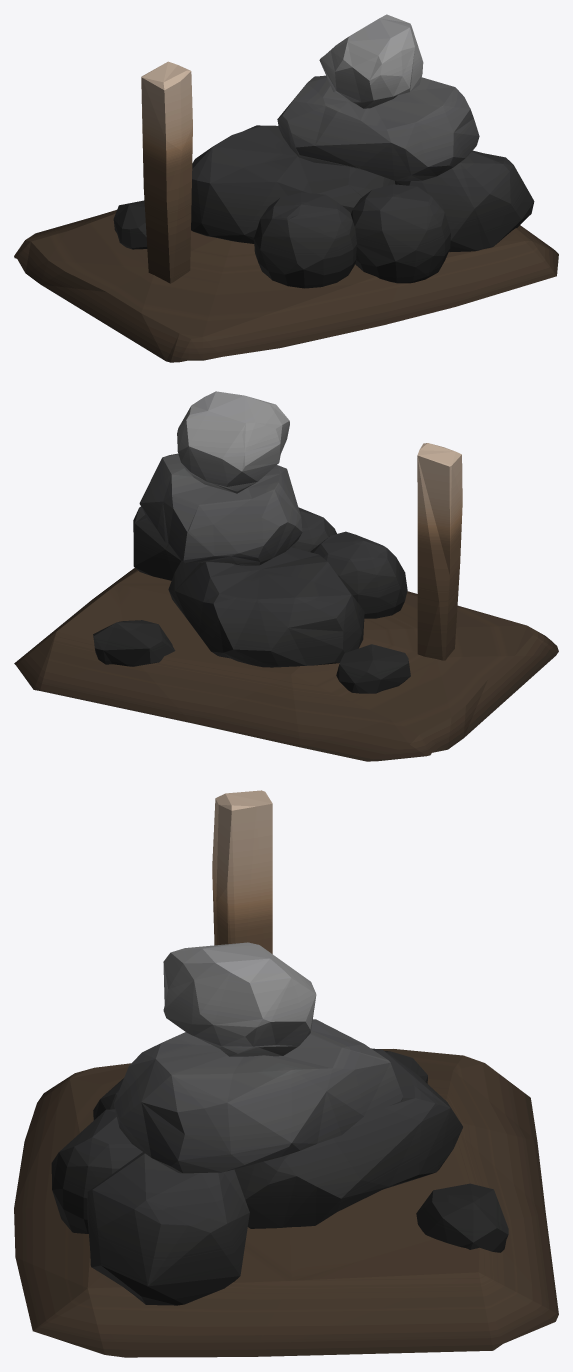
The model's file is EA_Grave_Mud_Stones_01a.glb.
The picture shows the model from 3 angles, top to bottom: view 1: azimuth 30°, elevation 25°; view 2: azimuth 150°, elevation 25°; view 3: azimuth 270°, elevation 25°; orthographic projection. The views are drawn at different scales.
Visible parts, largest first — view 1: EA_Grave_Mud_Stones_01a; view 2: EA_Grave_Mud_Stones_01a; view 3: EA_Grave_Mud_Stones_01a.
Part boxes in pixels (x1,y1,x2,y2): EA_Grave_Mud_Stones_01a: (14, 14, 558, 362); EA_Grave_Mud_Stones_01a: (14, 391, 558, 761); EA_Grave_Mud_Stones_01a: (14, 790, 558, 1357).
Size of the model in its own units: 2.78 by 1.48 by 2.22.
1 material, 1 textured.
